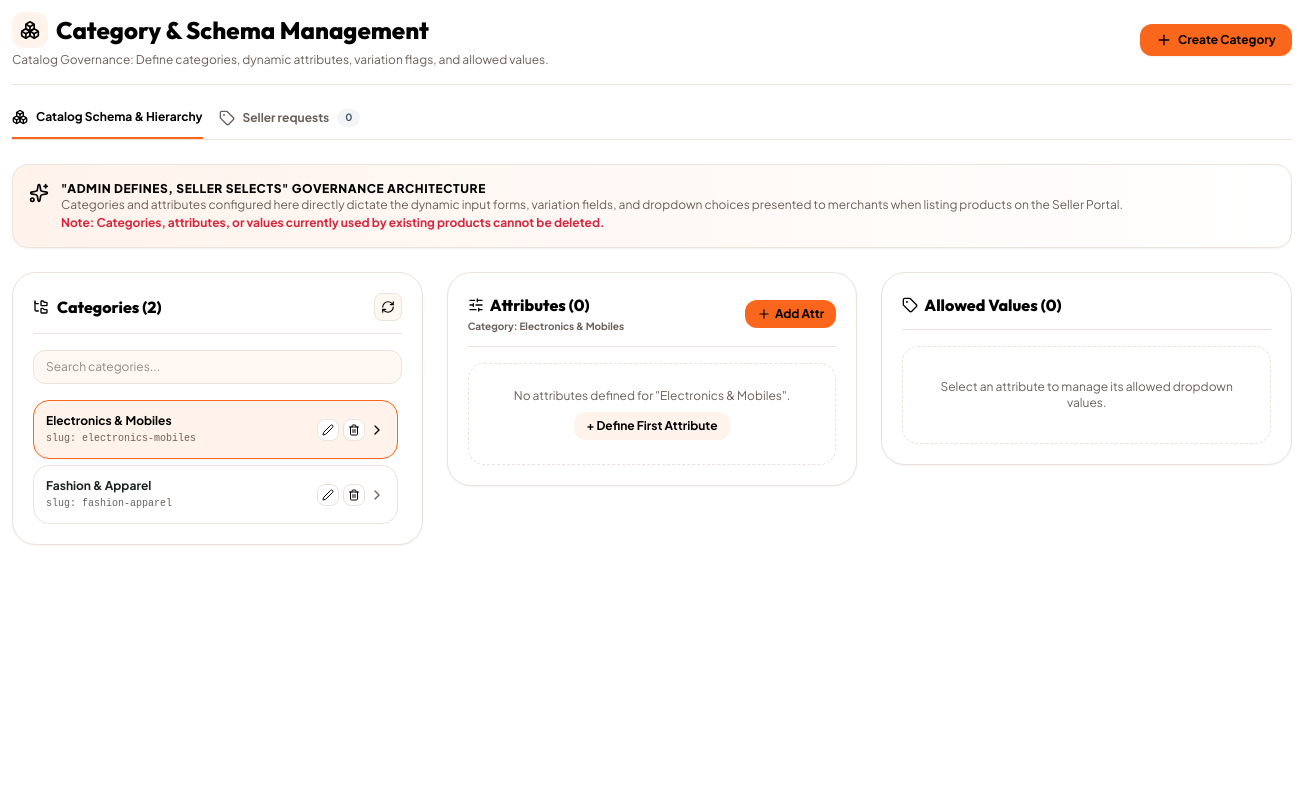
Scenario: CatalogSchemaModule — Category, Attribute & Allowed Value Admin Governance Suite › handles server 409 Conflict rejection when attempting to delete record in use by products
Step 1. Click the button titled "Delete Category" next to "electronics-mobiles" → (354, 430), box [343,418,365,440]
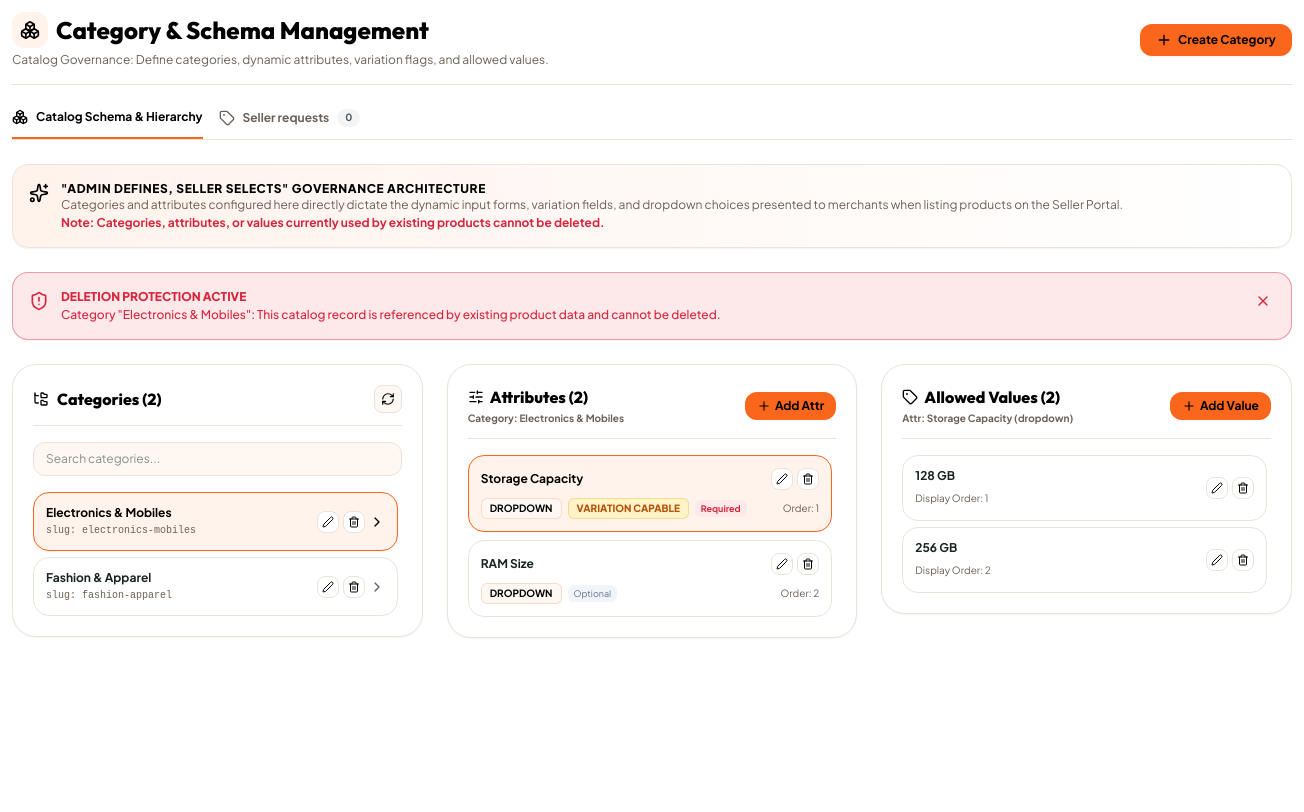
Check: the text "Deletion Protection Active" is shown, box [61,289,246,304]
Check: the text "This catalog record is referenced by existing product data and cannot be deleted" is shown, box [61,307,721,322]
